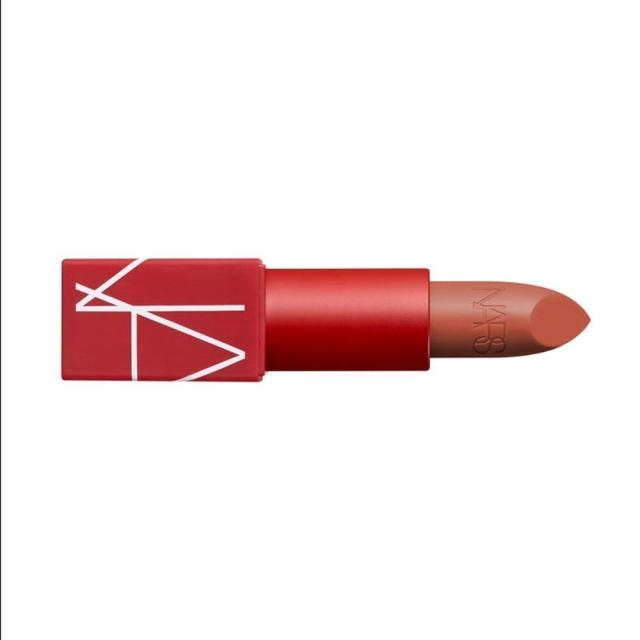lipstick: (35, 224, 603, 413)
